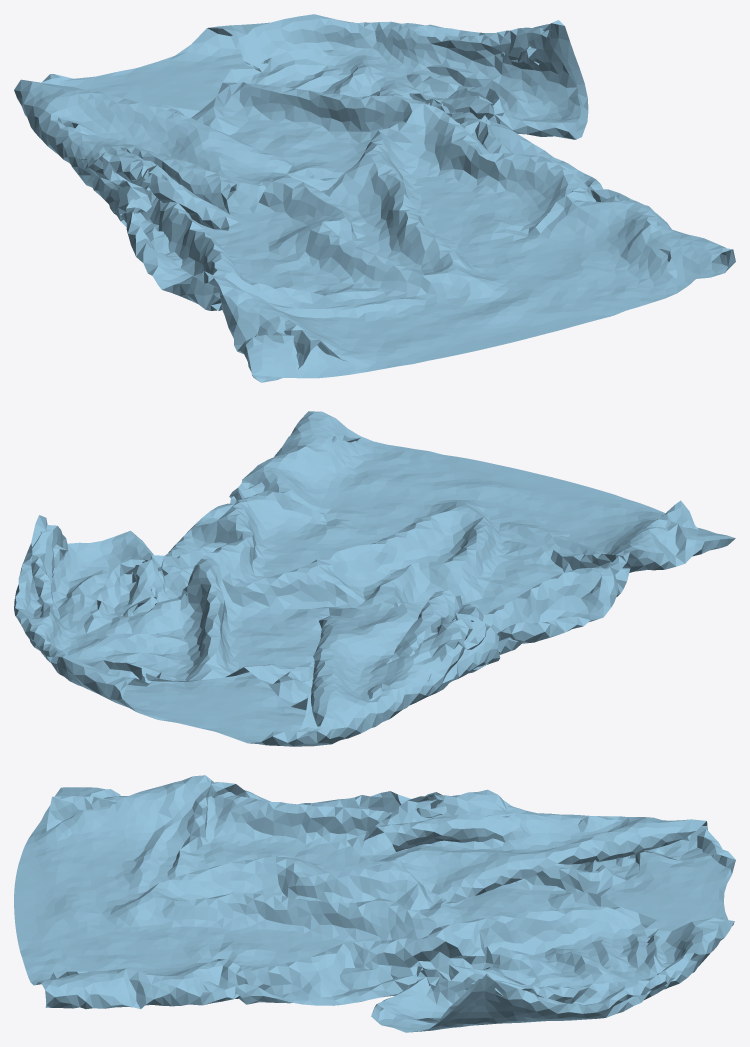
Rendered from frame_03.glb.
The picture shows the model from 3 angles, top to bottom: view 1: azimuth 30°, elevation 25°; view 2: azimuth 150°, elevation 25°; view 3: azimuth 270°, elevation 25°; orthographic projection. The views are drawn at different scales.
Visible parts, largest first — view 1: frame_03.obj; view 2: frame_03.obj; view 3: frame_03.obj.
Boxes of the visible parts, x1=… form: frame_03.obj: x1=14, y1=14, x2=735, y2=382; frame_03.obj: x1=14, y1=411, x2=735, y2=746; frame_03.obj: x1=14, y1=775, x2=735, y2=1032.
Bounding box in the file's own units: 1.37 × 0.182 × 1.69.
